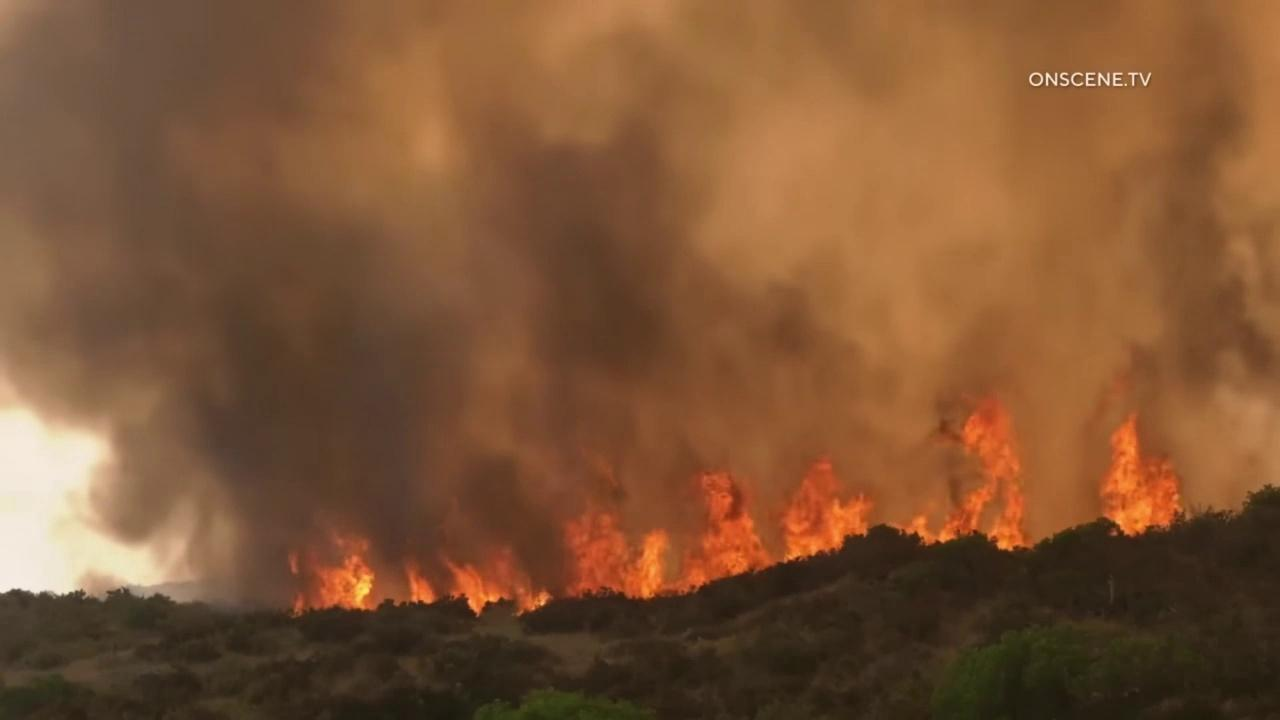fire: (562, 454, 875, 601), (884, 396, 1036, 554), (1100, 410, 1185, 539), (287, 528, 376, 617), (442, 547, 553, 618), (403, 549, 438, 605)
smoke: (0, 0, 1280, 614)
